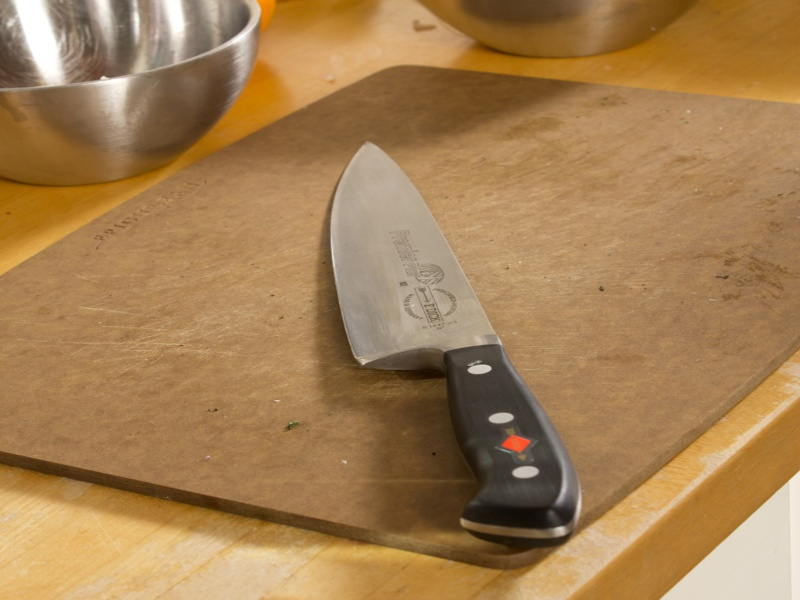knife: (323, 134, 602, 555)
